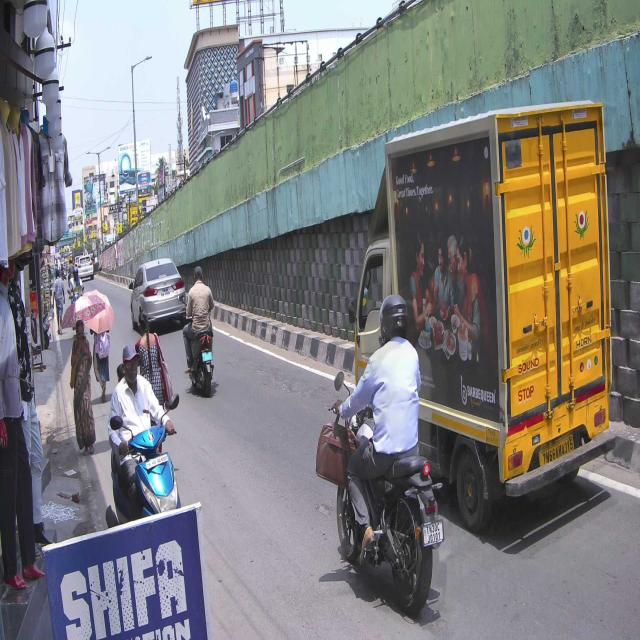single_rider: (327, 292, 441, 612), (106, 344, 174, 528)
